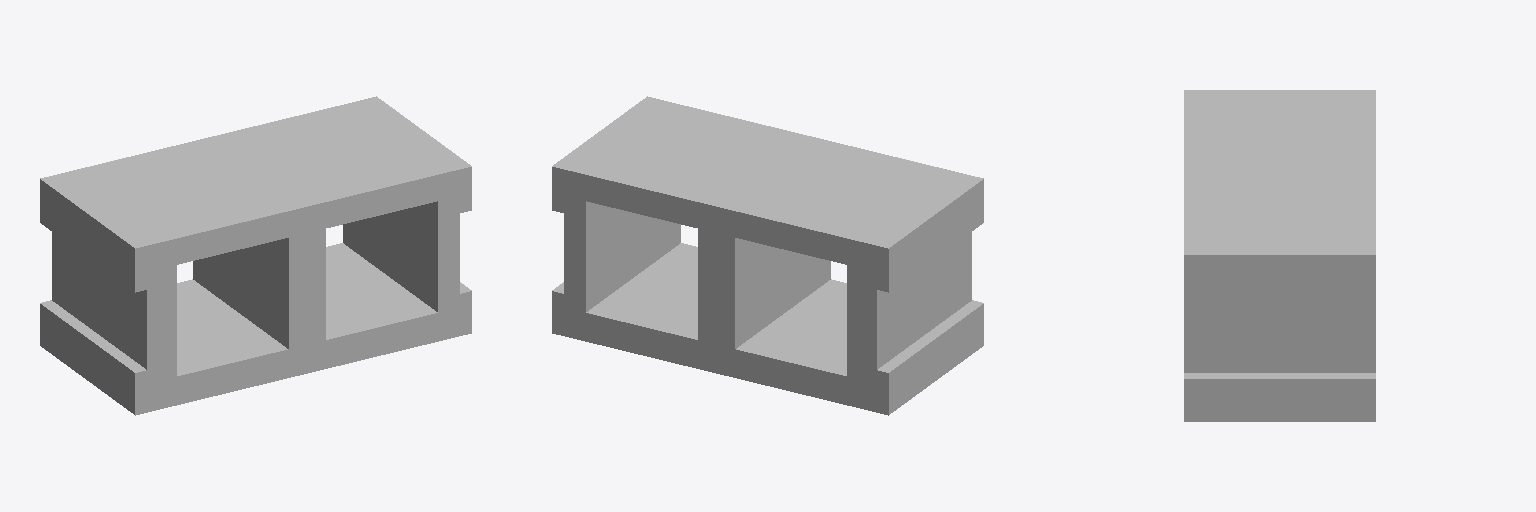
The model's file is ConcreetBrick.obj.
3 renders of one model, left to right at view 1: azimuth 30°, elevation 25°; view 2: azimuth 150°, elevation 25°; view 3: azimuth 270°, elevation 25°, orthographic.
Parts seen in each view (by area): view 1: Cube3_Cube3.001; view 2: Cube3_Cube3.001; view 3: Cube3_Cube3.001.
Part boxes in pixels (left/top/right/bottom): Cube3_Cube3.001: left=40, top=96, right=471, bottom=415; Cube3_Cube3.001: left=552, top=96, right=983, bottom=415; Cube3_Cube3.001: left=1184, top=90, right=1375, bottom=421.
Size of the model in its own units: 0.5046 by 0.2388 by 0.248.